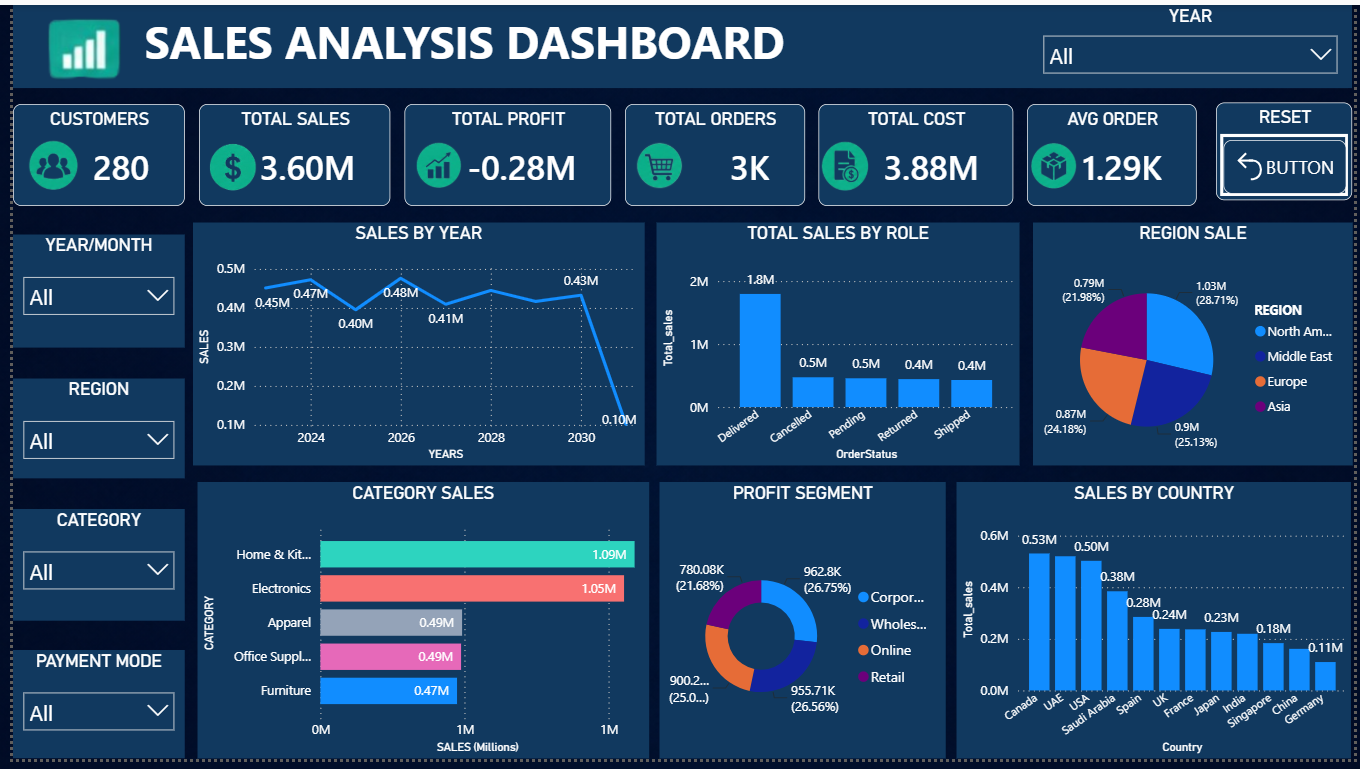

This screenshot's page, from the dashboard's own definition file:
{"tool":"powerbi","page":{"name":"Page 1","canvas":[1280,720],"ordinal":0},"visuals":[{"type":"slicer","title":"YEAR/MONTH","fields":{"Values":["Tbl_orders.OrderDate"]},"box":[0,219.8,163.8,108.2],"z":1000},{"type":"slicer","title":"REGION","fields":{"Values":["Tbl_orders.Region"]},"box":[0,356.8,163.8,95.4],"z":2000},{"type":"slicer","title":"PAYMENT MODE","fields":{"Values":["Tbl_orders.PaymentMode"]},"box":[0,616.6,163.8,103.4],"z":3000},{"type":"slicer","title":"CATEGORY","fields":{"Values":["Tbl_product.Category"]},"box":[0,481.1,163.8,106.6],"z":4000},{"type":"textbox","box":[0,0,1278.9,79.5],"z":5000},{"type":"cardVisual","title":"TOTAL SALES ","fields":{"Data":["Measures1.Total_sales"]},"box":[177.1,93.8,182.9,97],"z":6000},{"type":"cardVisual","title":"TOTAL PROFIT","fields":{"Data":["Measures1.Total_Profit"]},"box":[373.3,93.8,197.2,97],"z":7000},{"type":"cardVisual","title":"TOTAL ORDERS","fields":{"Data":["Measures1.Total_orders"]},"box":[583.8,93.8,171.8,97],"z":8000},{"type":"cardVisual","title":"TOTAL COST","fields":{"Data":["Measures1.Total_cost"]},"box":[768.8,93.8,186.1,97],"z":9000},{"type":"cardVisual","title":"AVG ORDER","fields":{"Data":["Measures1.Avg_order_value"]},"box":[968.2,93.8,162.2,97],"z":10000},{"type":"pieChart","title":"REGION SALE ","fields":{"Category":["Tbl_orders.Region"],"Y":["Measures1.Total_sales"]},"box":[973.5,208.4,305.4,232.2],"z":11000},{"type":"lineChart","title":"SALES BY YEAR","fields":{"Y":["Measures1.Total_sales"],"Category":["Tbl_orders.OrderDate.Variation.Date Hierarchy.Year"]},"box":[171.8,208.4,431.1,232.2],"z":12000},{"type":"barChart","title":"CATEGORY SALES ","fields":{"Category":["Tbl_product.Category"],"Y":["Measures1.Total_sales"]},"box":[176.6,456,431.1,264],"z":13000},{"type":"donutChart","title":"PROFIT SEGMENT ","fields":{"Category":["Tbl_customers.Segment"],"Y":["Measures1.Total_sales"]},"box":[617.2,456,273.6,264],"z":14000},{"type":"cardVisual","title":"CUSTOMERS","fields":{"Data":["Measures1.Total_customers"]},"box":[0,93.8,163.8,97],"z":15000},{"type":"columnChart","title":"TOTAL SALES BY ROLE","fields":{"Y":["Measures1.Total_sales"],"Category":["Tbl_orders.OrderStatus"]},"box":[614.8,208.4,346.8,232.2],"z":16000},{"type":"columnChart","title":"SALES BY COUNTRY","fields":{"Category":["Tbl_customers.Country"],"Y":["Measures1.Total_sales"]},"box":[900.3,456,377,264],"z":17000},{"type":"image","box":[171.8,108.2,77.9,70],"z":18000},{"type":"image","box":[367.4,125.7,77.9,52.5],"z":19000},{"type":"image","box":[577.4,127.2,77.9,52.5],"z":20000},{"type":"image","box":[0,125.7,77.9,52.5],"z":21000},{"type":"image","box":[968.7,125.7,49.3,52.5],"z":22000},{"type":"image","box":[768.3,127.2,50.9,52.5],"z":23000},{"type":"image","box":[0,0,135.2,82.7],"z":24000},{"type":"slicer","title":"YEAR","fields":{"Values":["Tbl_orders.OrderDate.Variation.Date Hierarchy.Year"]},"box":[973.5,0,300.6,79.5],"z":25000},{"type":"actionButton","title":"RESET","box":[1149.1,93.6,130.3,93.6],"z":25500},{"type":"actionButton","box":[1156.4,128.5,117.5,51.4],"z":26000}]}

Visuals, with their boxes in screenshot pixels (x1, y1, x2, y2), scaled from the page's 1280x720 canvas onto the 1360x769 screenshot:
"YEAR/MONTH" slicer: box=[0, 235, 174, 350]
"REGION" slicer: box=[0, 381, 174, 483]
"PAYMENT MODE" slicer: box=[0, 659, 174, 768]
"CATEGORY" slicer: box=[0, 514, 174, 628]
textbox: box=[0, 0, 1359, 85]
"TOTAL SALES " cardVisual: box=[188, 100, 382, 204]
"TOTAL PROFIT" cardVisual: box=[397, 100, 606, 204]
"TOTAL ORDERS" cardVisual: box=[620, 100, 803, 204]
"TOTAL COST" cardVisual: box=[817, 100, 1015, 204]
"AVG ORDER" cardVisual: box=[1029, 100, 1201, 204]
"REGION SALE " pieChart: box=[1034, 223, 1359, 471]
"SALES BY YEAR" lineChart: box=[183, 223, 641, 471]
"CATEGORY SALES " barChart: box=[188, 487, 646, 768]
"PROFIT SEGMENT " donutChart: box=[656, 487, 946, 768]
"CUSTOMERS" cardVisual: box=[0, 100, 174, 204]
"TOTAL SALES BY ROLE" columnChart: box=[653, 223, 1022, 471]
"SALES BY COUNTRY" columnChart: box=[957, 487, 1357, 768]
image: box=[183, 116, 265, 190]
image: box=[390, 134, 473, 190]
image: box=[613, 136, 696, 192]
image: box=[0, 134, 83, 190]
image: box=[1029, 134, 1082, 190]
image: box=[816, 136, 870, 192]
image: box=[0, 0, 144, 88]
"YEAR" slicer: box=[1034, 0, 1354, 85]
"RESET" actionButton: box=[1221, 100, 1359, 200]
actionButton: box=[1229, 137, 1354, 192]
